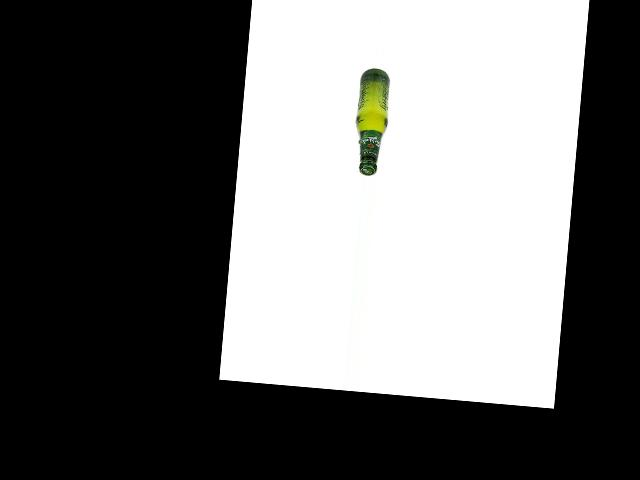beer: (351, 66, 391, 176)
